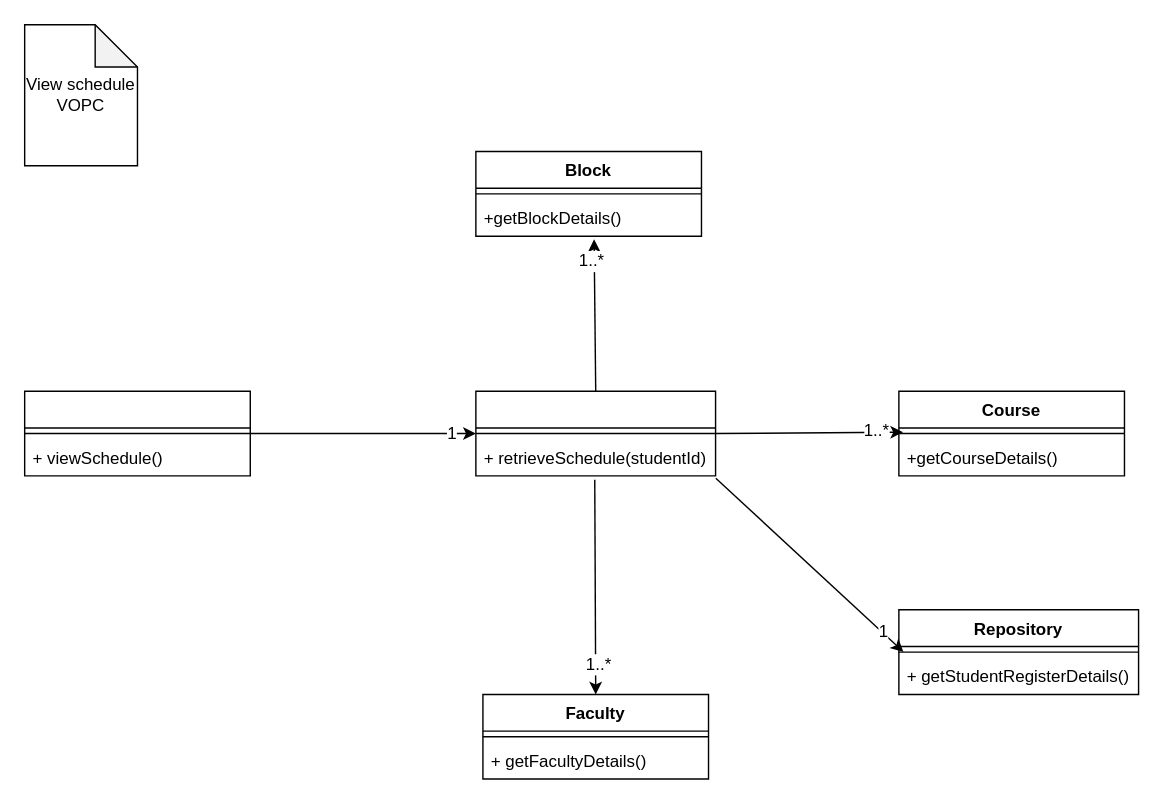
This 1163x808 diagram has some shape labels left out. Each missing label, with the box of its shape:
Schedule Controller: (474, 390, 716, 476)
Schedule Form: (23, 390, 250, 476)
